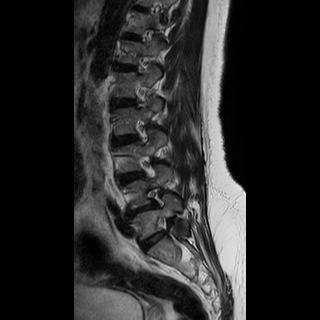LFS0: (126, 115, 152, 149), (131, 152, 158, 184)
LFS1: (140, 183, 167, 214)
